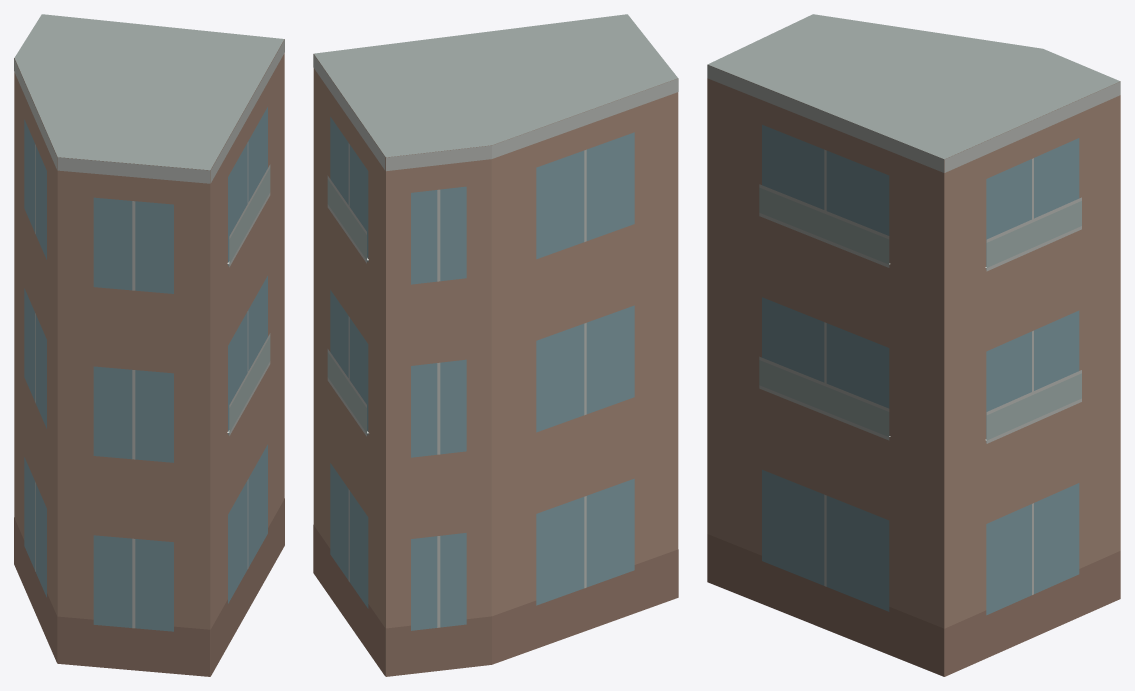
The model's file is survey-upis-32476182.glb.
The picture shows the model from 3 angles, left to right: view 1: azimuth 30°, elevation 25°; view 2: azimuth 150°, elevation 25°; view 3: azimuth 270°, elevation 25°; orthographic projection. The views are drawn at different scales.
Parts seen in each view (by area): view 1: survey-upis-32476182.tmp; view 2: survey-upis-32476182.tmp; view 3: survey-upis-32476182.tmp.
Boxes of the visible parts, x1,y1,x2,y2 form: survey-upis-32476182.tmp: (14, 14, 284, 676); survey-upis-32476182.tmp: (313, 14, 678, 676); survey-upis-32476182.tmp: (707, 14, 1120, 676).
Size of the model in its own units: 5.52 by 9.15 by 6.63.
